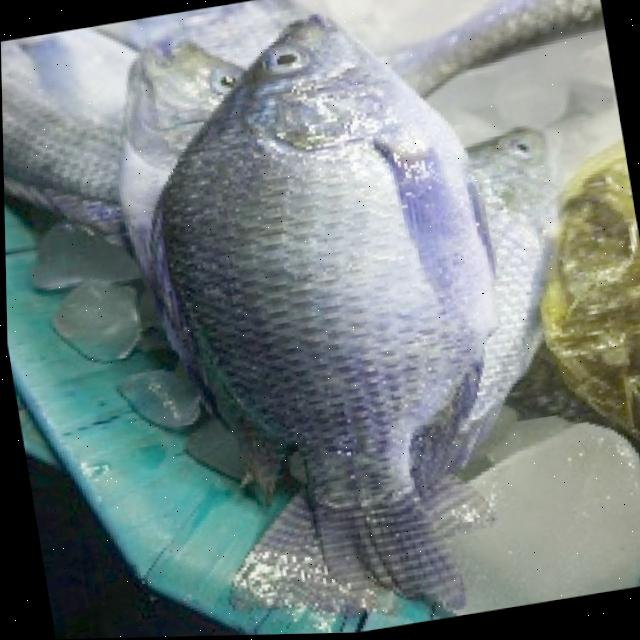Fresh: (157, 0, 558, 569)
